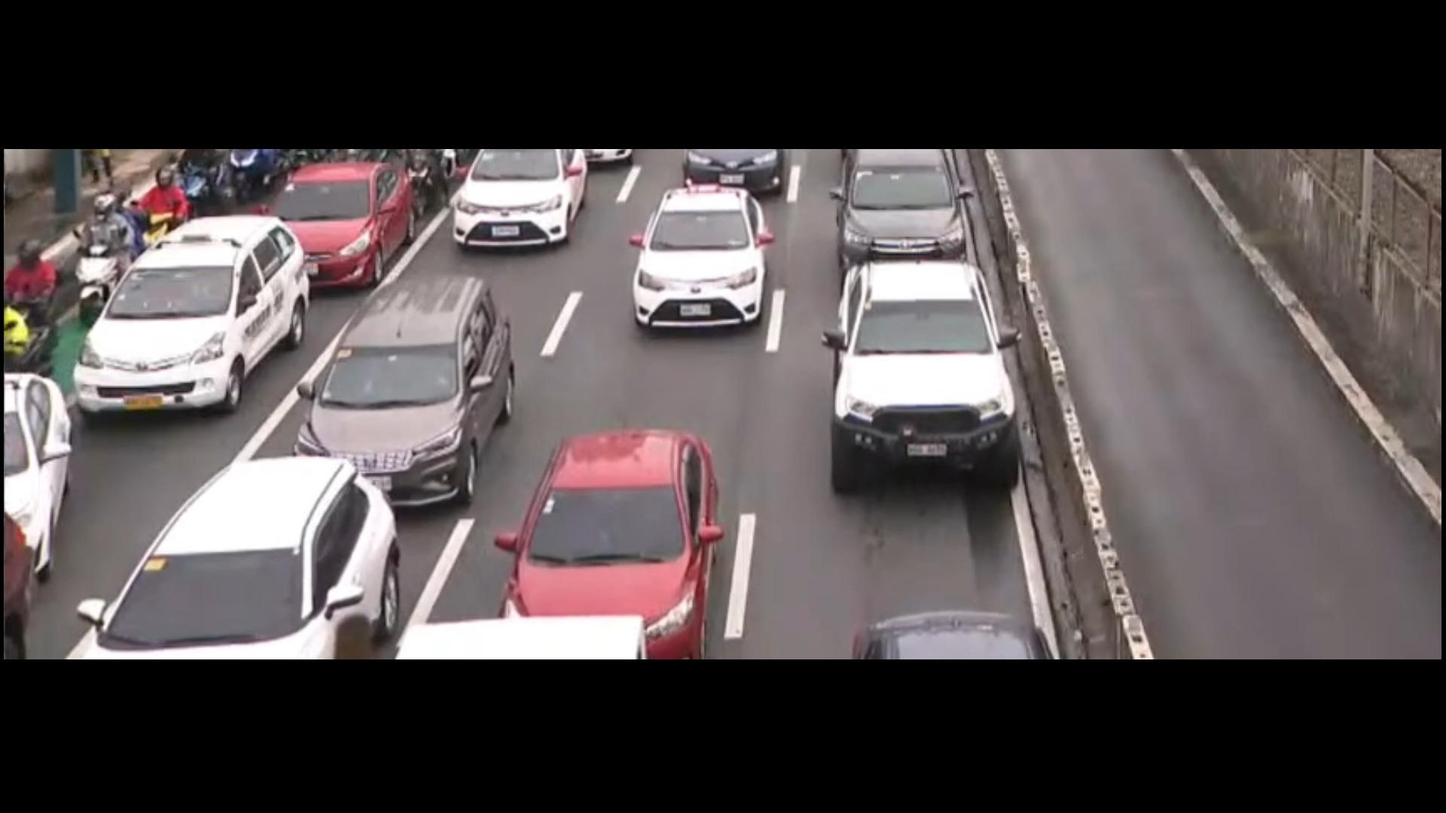Motorcycle: (51, 189, 143, 322), (0, 234, 70, 376), (128, 172, 200, 250), (173, 155, 249, 209)
SUV: (54, 452, 403, 668), (809, 241, 1068, 508), (62, 202, 315, 423), (304, 262, 529, 504), (833, 149, 987, 278), (453, 140, 601, 260)
Sedan: (500, 407, 759, 642), (622, 179, 782, 341), (254, 157, 420, 289)
